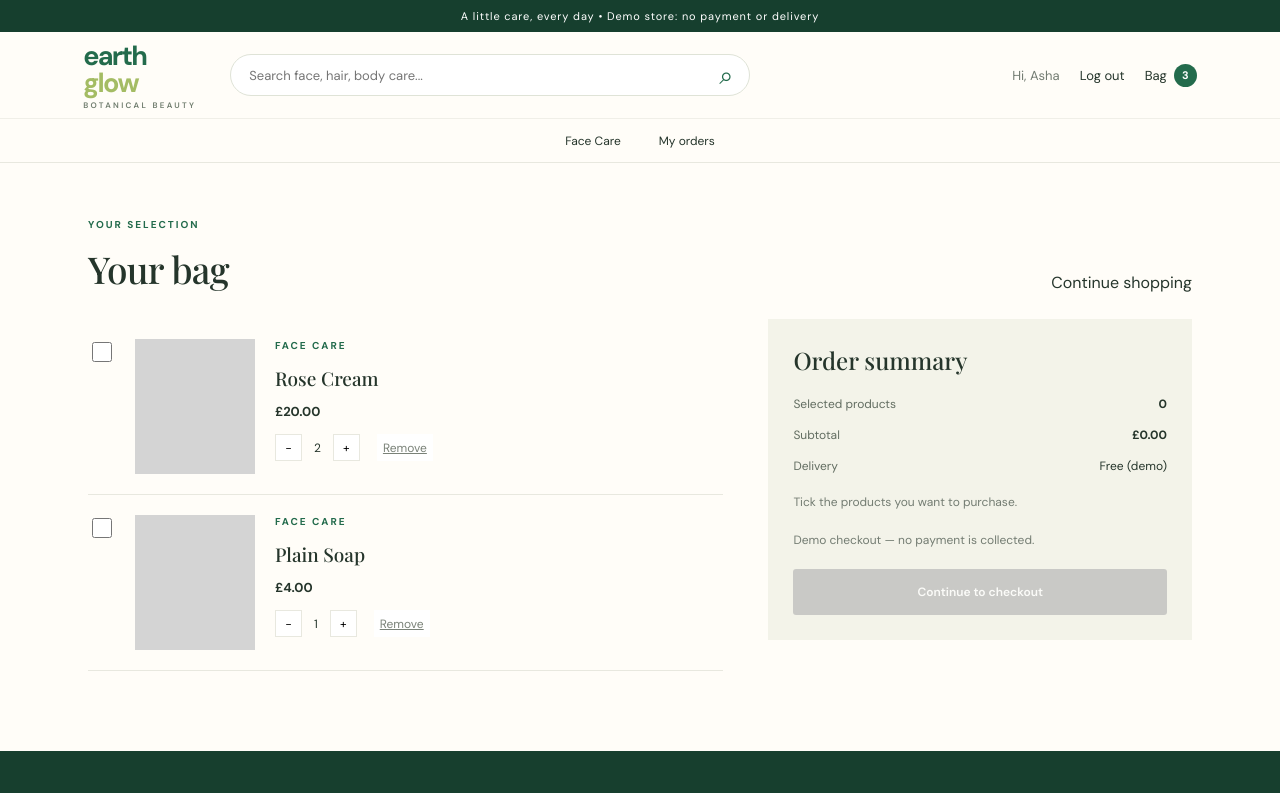
Test: bag and checkout › totals only the ticked products and shows demo delivery
Check: the button "Continue to checkout" is disabled, box [793,569,1167,615]
Click the checkbox named "Select Rose Cream".
click(102, 352)  # box [92,342,112,362]
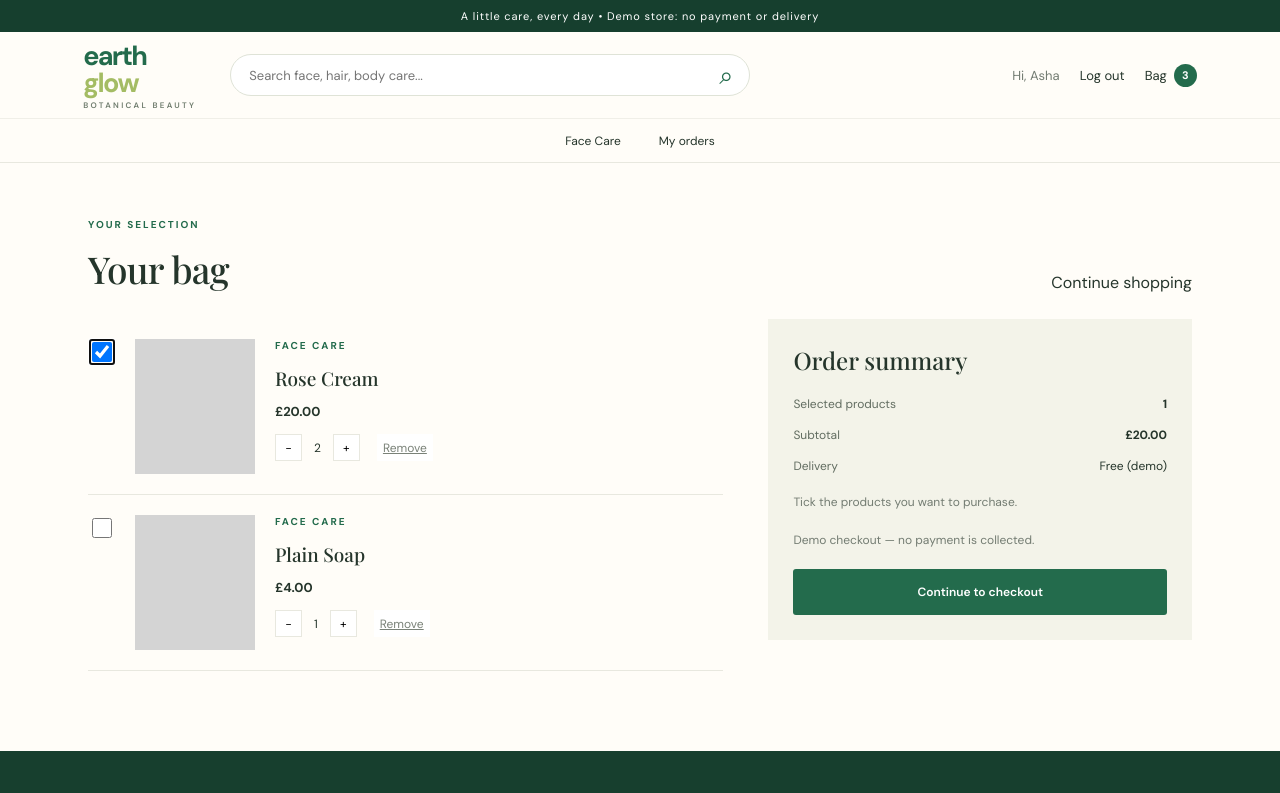
Check: the text "Free (demo)" is shown, box [1099,458,1167,474]
Check: the text "£20.00" in the row of "Subtotal" is shown, box [1125,427,1167,443]
